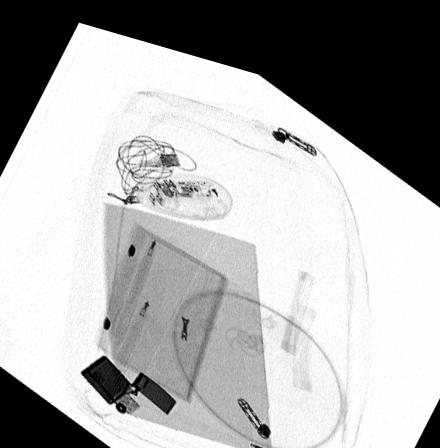Lighter: (78, 350, 176, 408)
